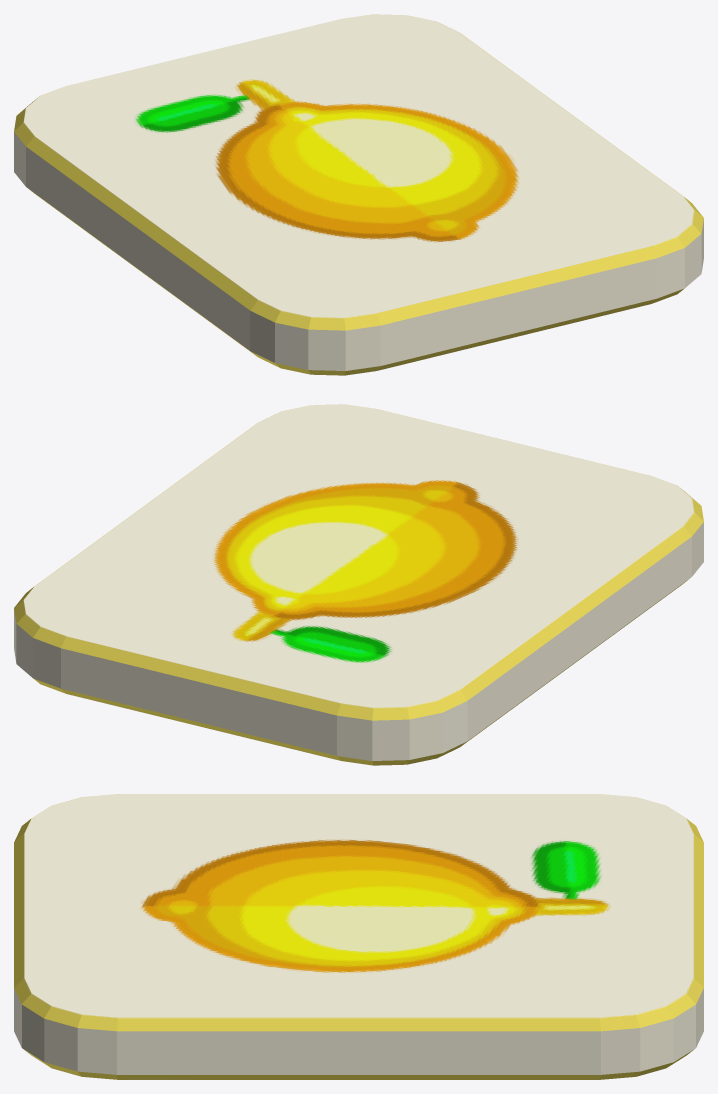
File: memory_card_5.fbx
The picture shows the model from 3 angles, top to bottom: view 1: azimuth 30°, elevation 25°; view 2: azimuth 150°, elevation 25°; view 3: azimuth 270°, elevation 25°; orthographic projection. The views are drawn at different scales.
Visible parts, largest first — view 1: Card5; view 2: Card5; view 3: Card5.
Boxes of the visible parts, x1,y1,x2,y2 form: Card5: [14, 14, 703, 375]; Card5: [14, 404, 703, 765]; Card5: [14, 794, 703, 1079].
Bounding box in the file's own units: 40 × 5 × 50.22.
